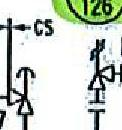psv: (86, 37, 115, 103)
